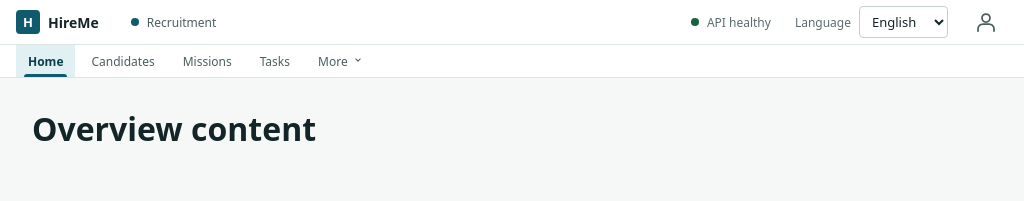
Test case: AppShell › keeps modified links native and closes the account popover with Escape
The image size is (1024, 201).
Expected: the heading "Overview content" is shown, [32,107,316,150]
Click the heading named "Account and session" at {"x": 986, "y": 22}, box [974,10,998,34]
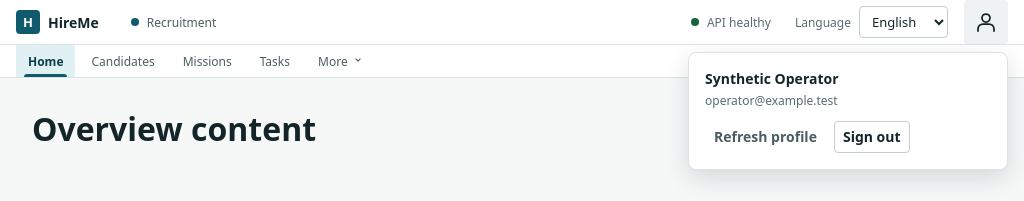
Expected: the button "Sign out" is shown, [834,121,910,153]
Press Escape in the heading named "Account and session", box [964,0,1008,44]
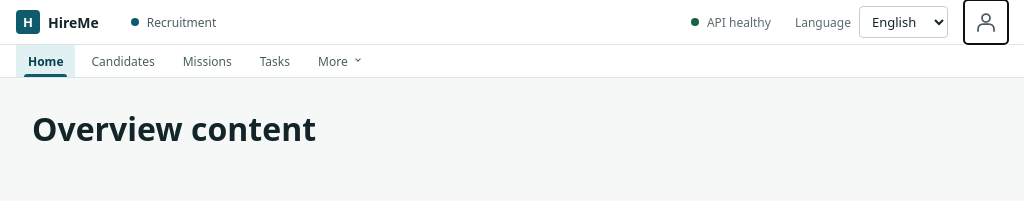
Expected: the button "Sign out" is gone
